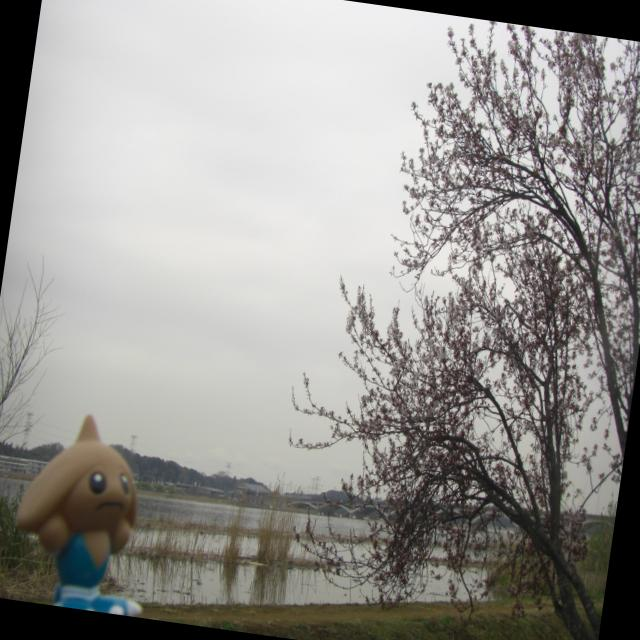Toy: (0, 404, 169, 617)
